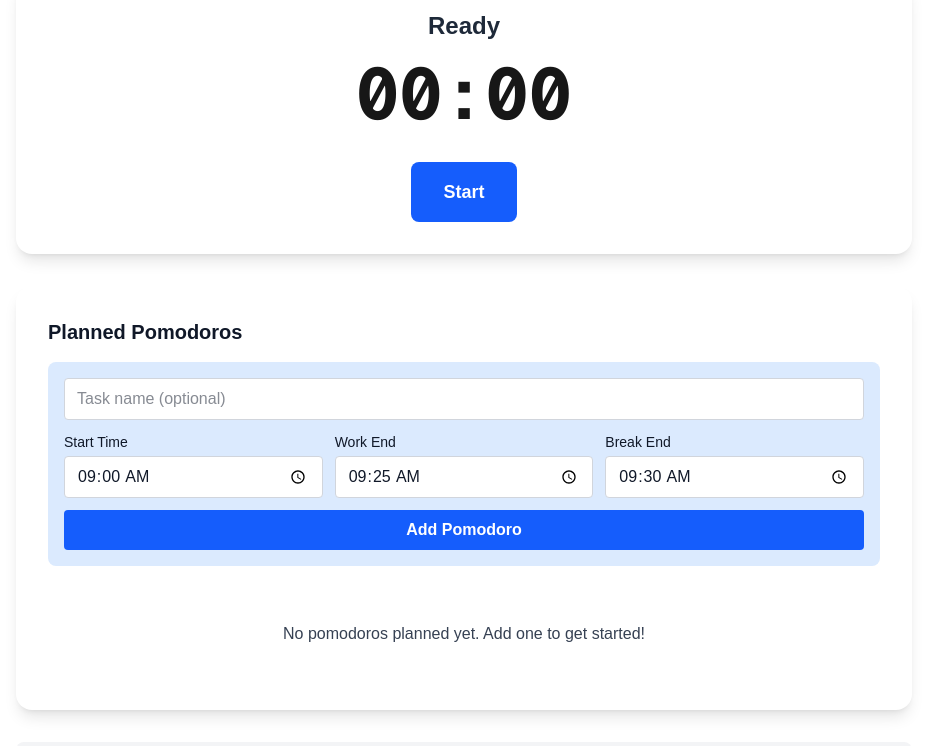
Test: PlannedMode › Add Pomodoro Form › should auto-fill break end when work end is changed
Note: Change work end time to 11:00
Replace the text in the time field below "Work End" with "11:00". click: (464, 477)
box: [335, 456, 593, 498]
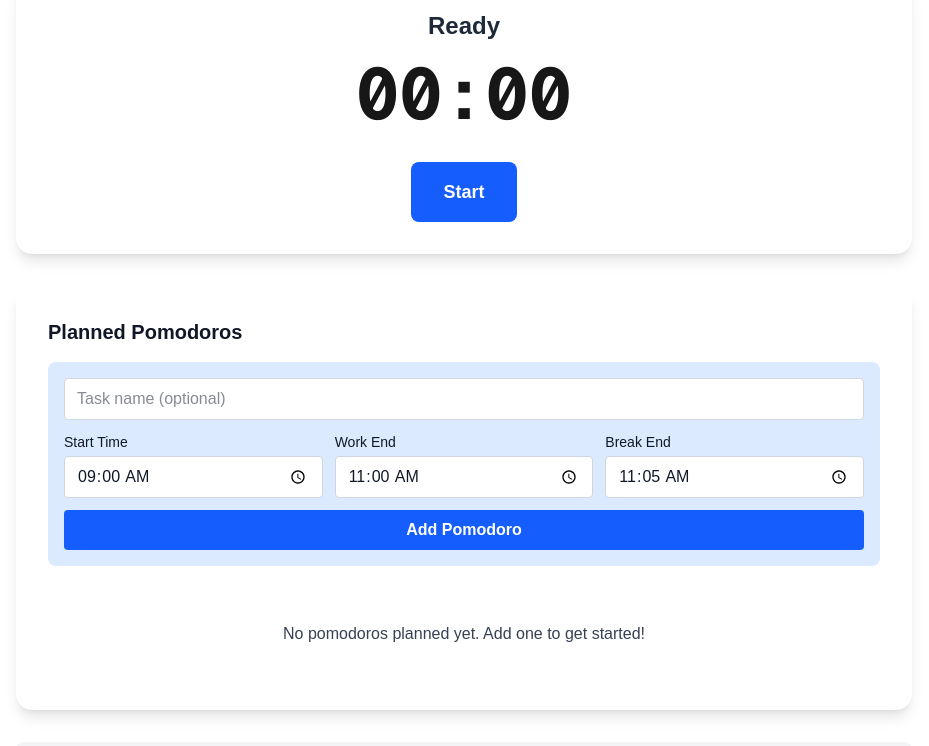
Expected: the time field below "Break End" holds "11:05", [605, 456, 864, 498]
